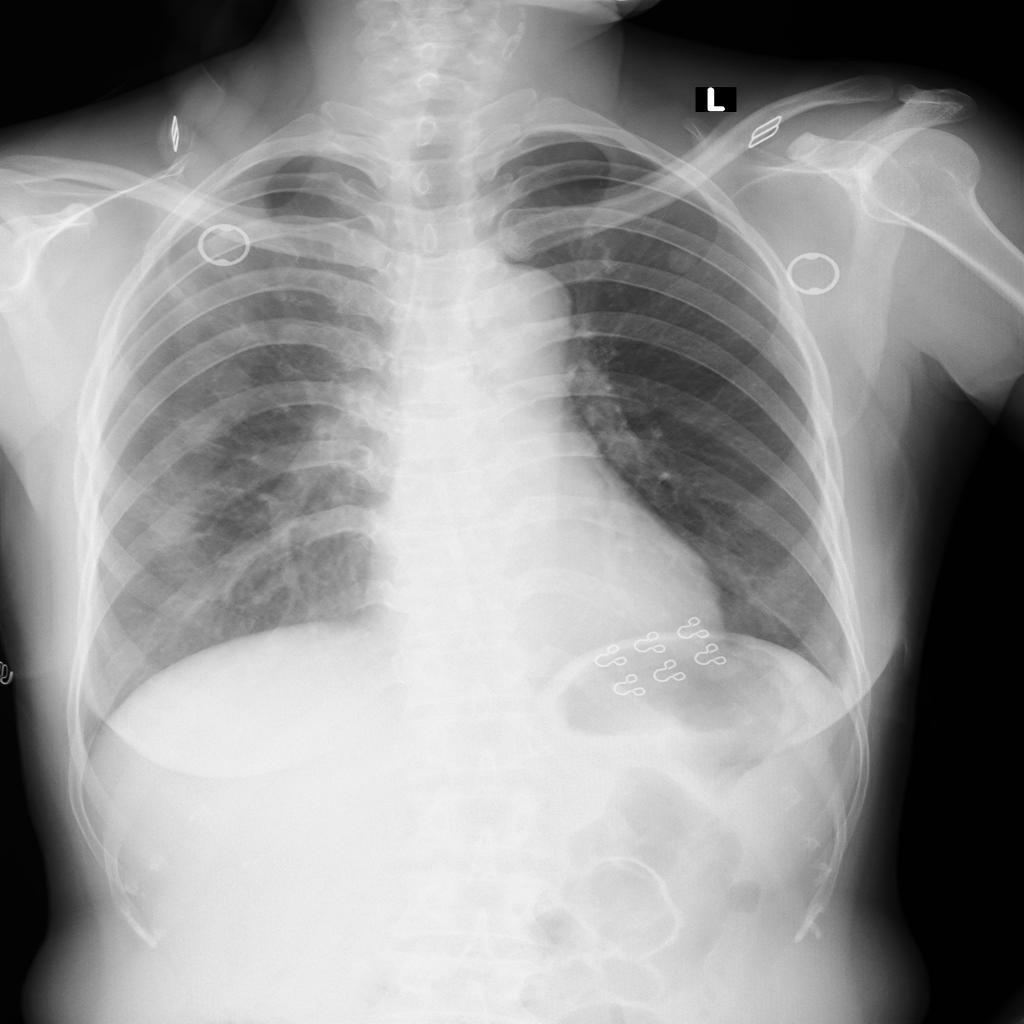Nodule: (667, 249, 699, 275), (276, 325, 309, 348), (167, 276, 199, 298)
